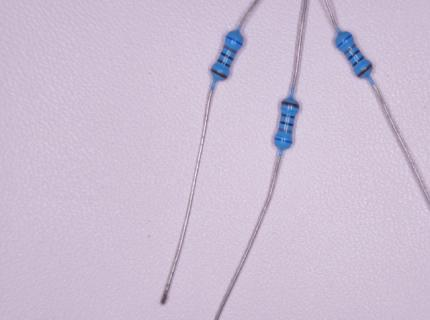Black band: (347, 49, 361, 61), (352, 56, 365, 67), (216, 59, 231, 68), (220, 52, 234, 61), (279, 120, 294, 127), (282, 113, 295, 119)
Blue band: (336, 34, 353, 48), (226, 35, 243, 47), (274, 136, 292, 144)
Brown band: (356, 64, 373, 78), (210, 67, 227, 80), (281, 100, 300, 109)
Grey band: (223, 44, 237, 55), (343, 44, 357, 55), (278, 127, 293, 135)
